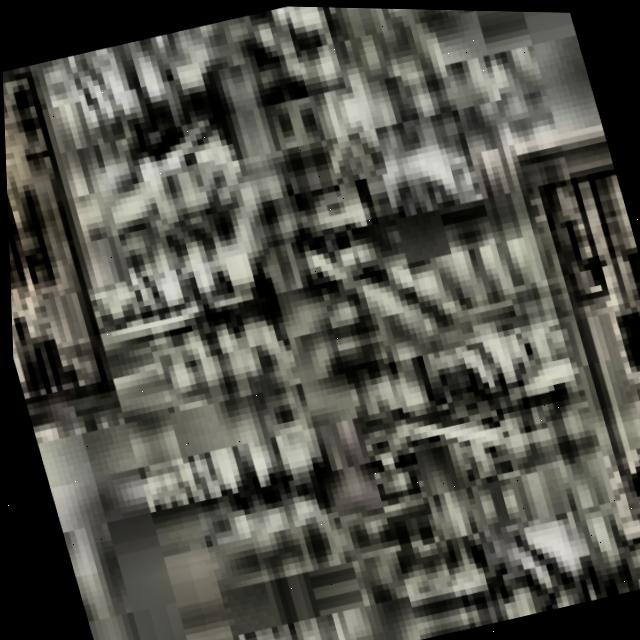plastic: (6, 197, 340, 514), (294, 70, 640, 371), (0, 15, 289, 331), (30, 371, 359, 640), (323, 232, 640, 503), (360, 387, 640, 640), (237, 4, 590, 154), (79, 539, 410, 640)
